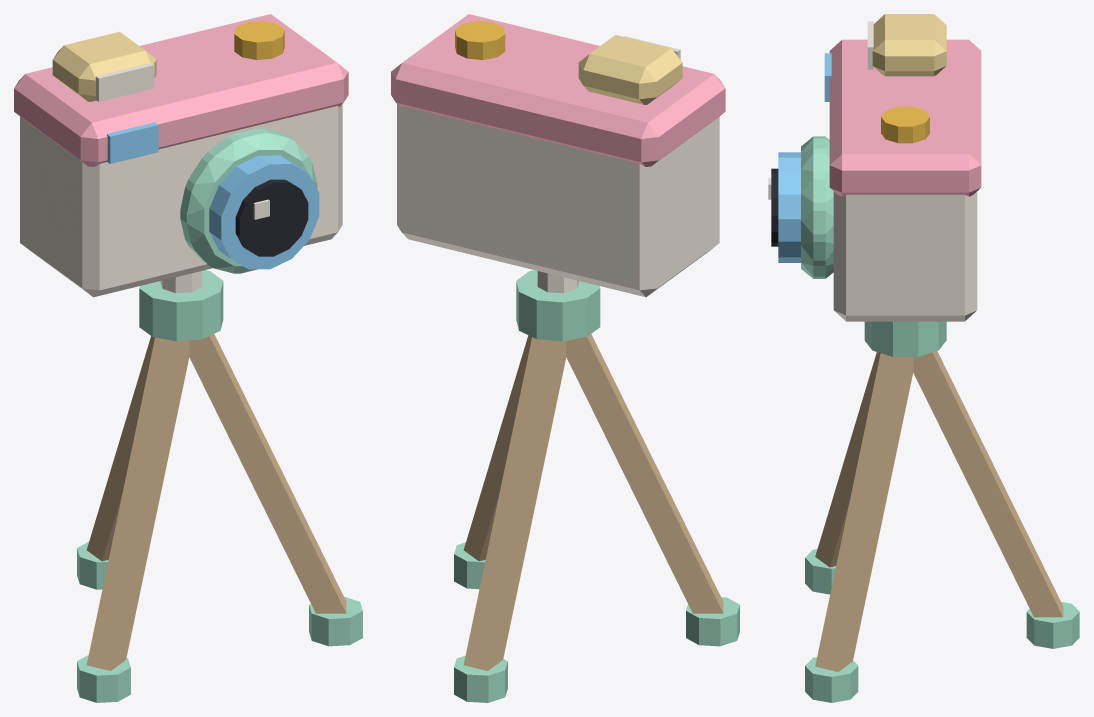
The model's file is CleanACat_Prop_PhotoCamera.fbx.
3 views of the same model, side by side, from view 1: azimuth 30°, elevation 25°; view 2: azimuth 150°, elevation 25°; view 3: azimuth 270°, elevation 25° (orthographic). The views are drawn at different scales.
Visible parts, largest first — view 1: CleanACat_Prop_PhotoCamera; view 2: CleanACat_Prop_PhotoCamera; view 3: CleanACat_Prop_PhotoCamera.
Boxes of the visible parts, x1,y1,x2,y2 form: CleanACat_Prop_PhotoCamera: (14, 14, 362, 702); CleanACat_Prop_PhotoCamera: (391, 14, 739, 702); CleanACat_Prop_PhotoCamera: (768, 14, 1079, 702).
Bounding box in the file's own units: 1.51 × 3.1 × 1.52.
Materials: 1 (1 with a texture image).
